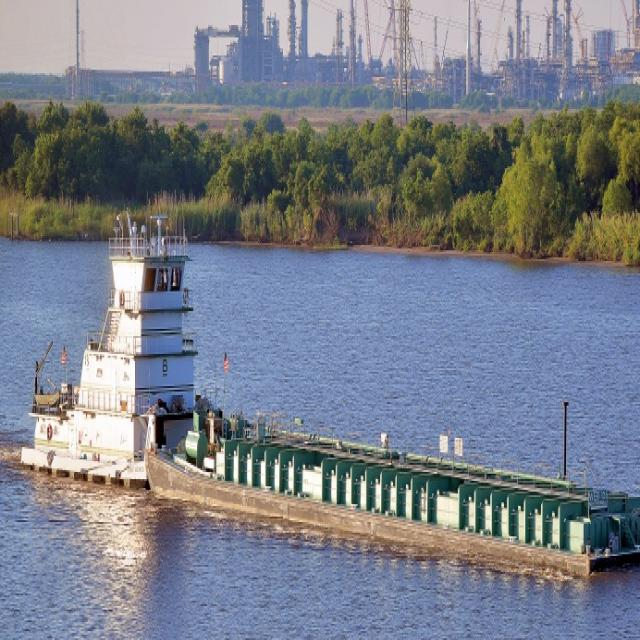tugboat: (17, 205, 219, 514)
